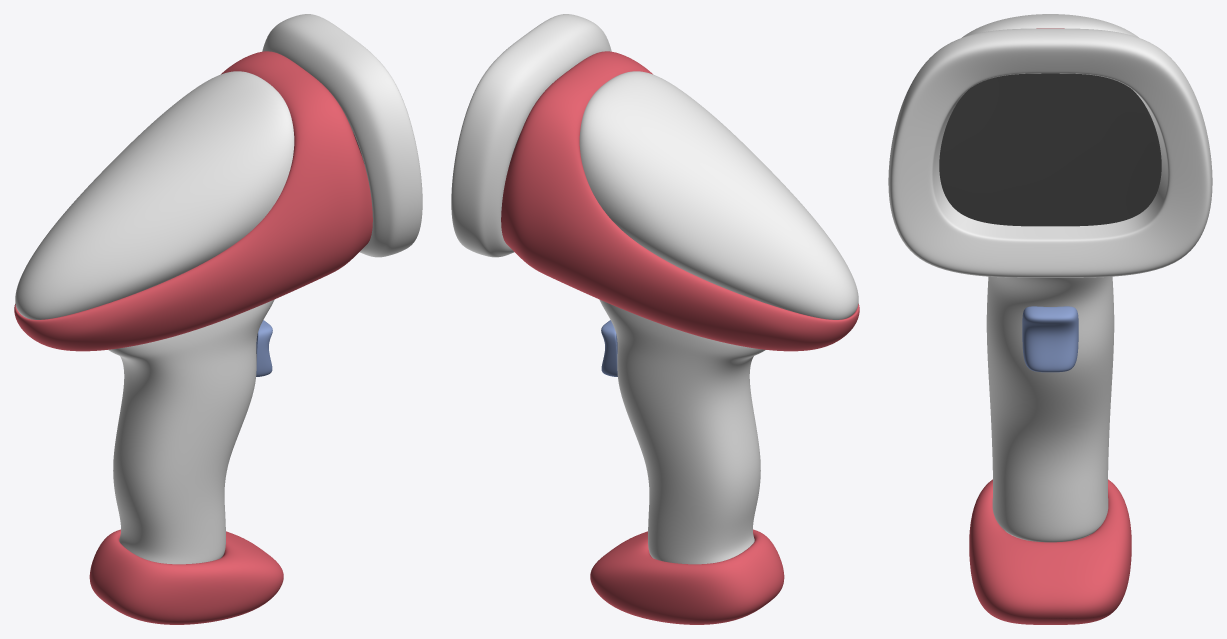
File: bar code scanner.fbx
The picture shows the model from 3 angles, left to right: view 1: azimuth 30°, elevation 25°; view 2: azimuth 150°, elevation 25°; view 3: azimuth 270°, elevation 25°; orthographic projection. The views are drawn at different scales.
Visible parts, largest first — view 1: Cube.005, Cube.006, Cube.004; view 2: Cube.005, Cube.006, Cube.004; view 3: Cube.005, Cube.004, Cube.006.
Boxes of the visible parts, left/top/right/bottom form: Cube.005: left=14, top=14, right=422, bottom=564; Cube.006: left=15, top=71, right=294, bottom=319; Cube.004: left=89, top=529, right=283, bottom=624; Cube.005: left=451, top=14, right=859, bottom=564; Cube.006: left=579, top=71, right=858, bottom=319; Cube.004: left=590, top=529, right=784, bottom=624; Cube.005: left=888, top=28, right=1212, bottom=542; Cube.004: left=969, top=479, right=1131, bottom=624; Cube.006: left=962, top=14, right=1138, bottom=37.
Bounding box in the file's own units: 137 × 207 × 93.42.
